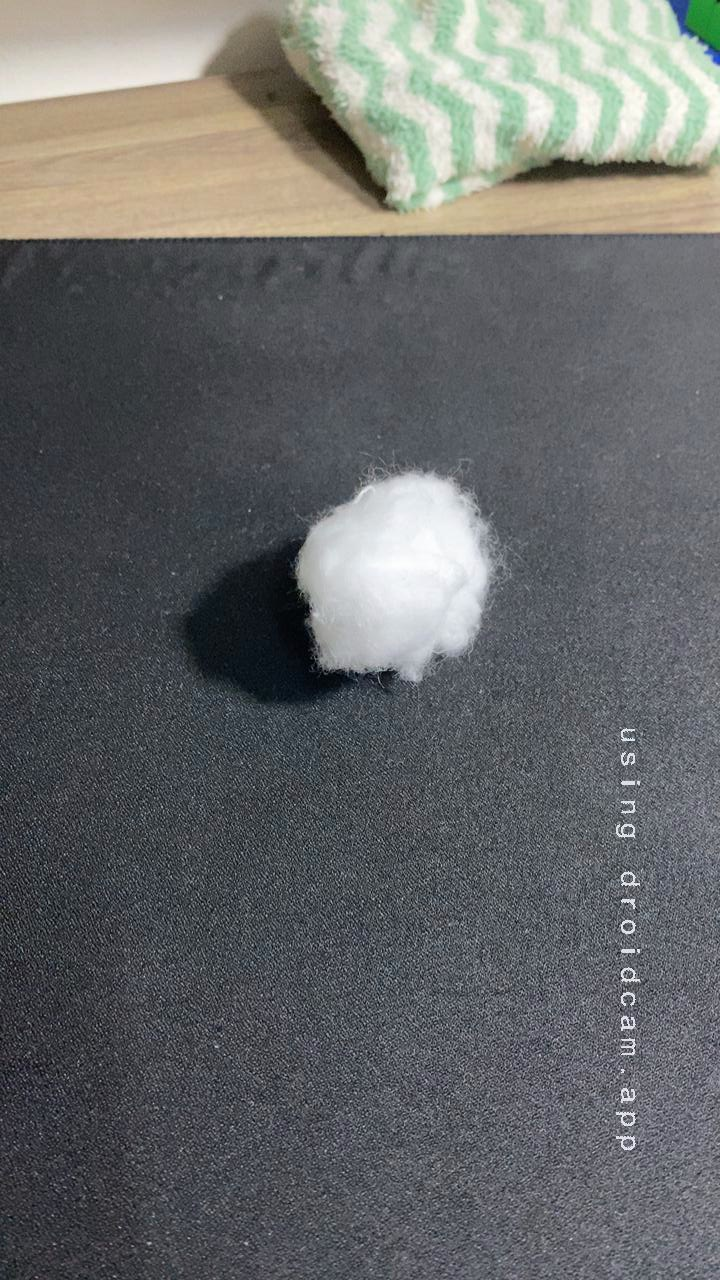cotton: (265, 452, 523, 687)
